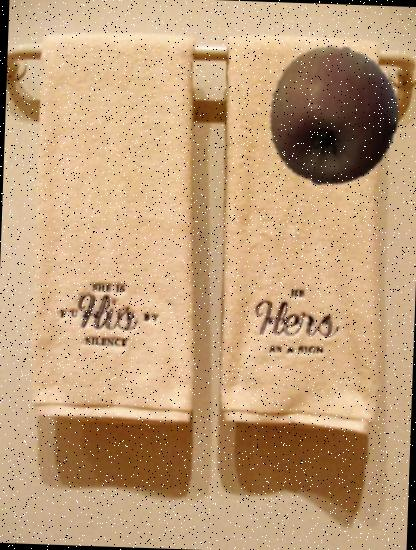Apple: (260, 43, 407, 190)
